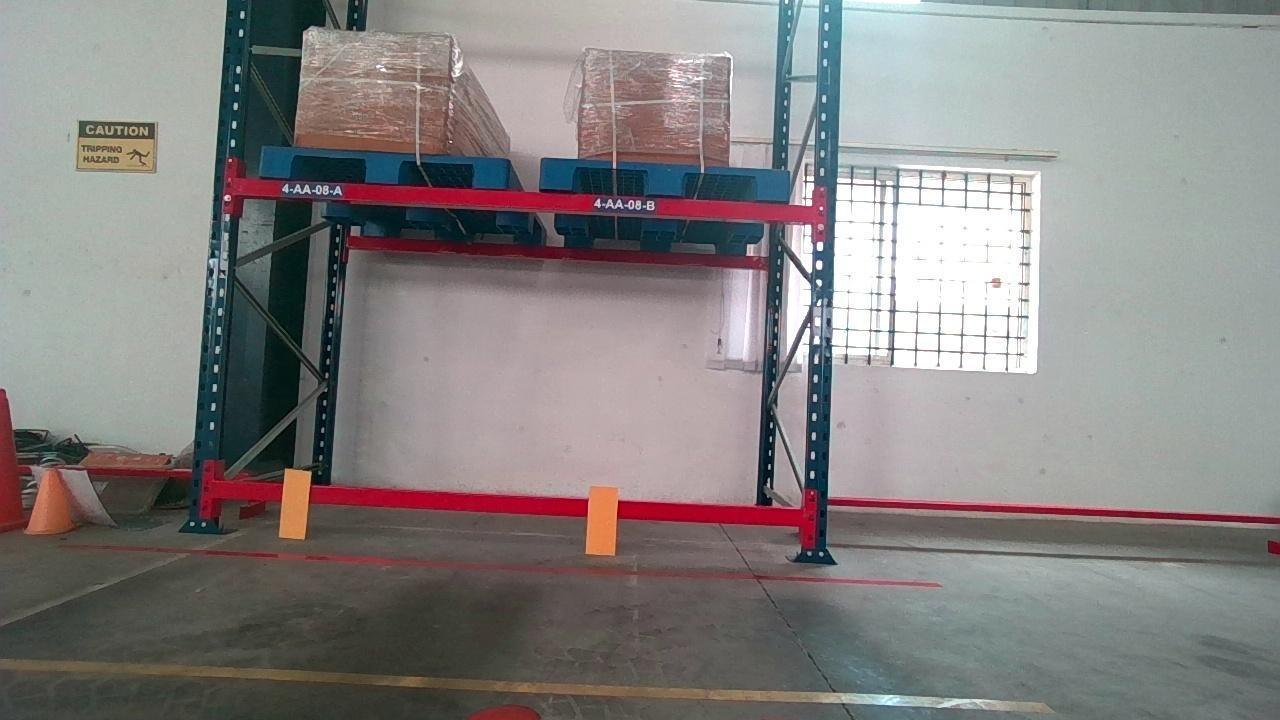h_rack: (235, 181, 820, 223), (213, 485, 805, 525)
orange_strip: (586, 486, 619, 553), (279, 467, 311, 535)
red_line: (60, 541, 942, 589)
small_pallet: (256, 148, 508, 183), (537, 161, 791, 194)
